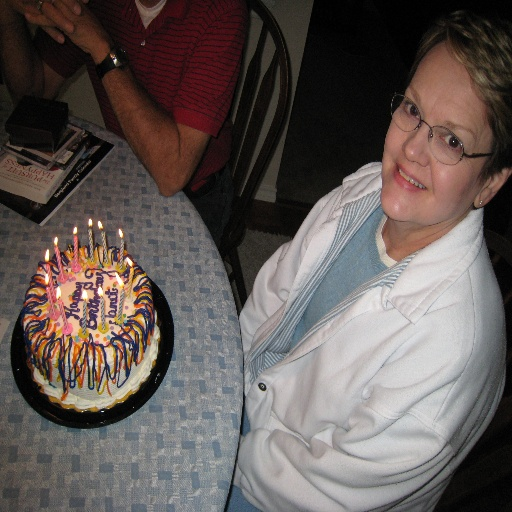hand: (16, 0, 80, 46)
